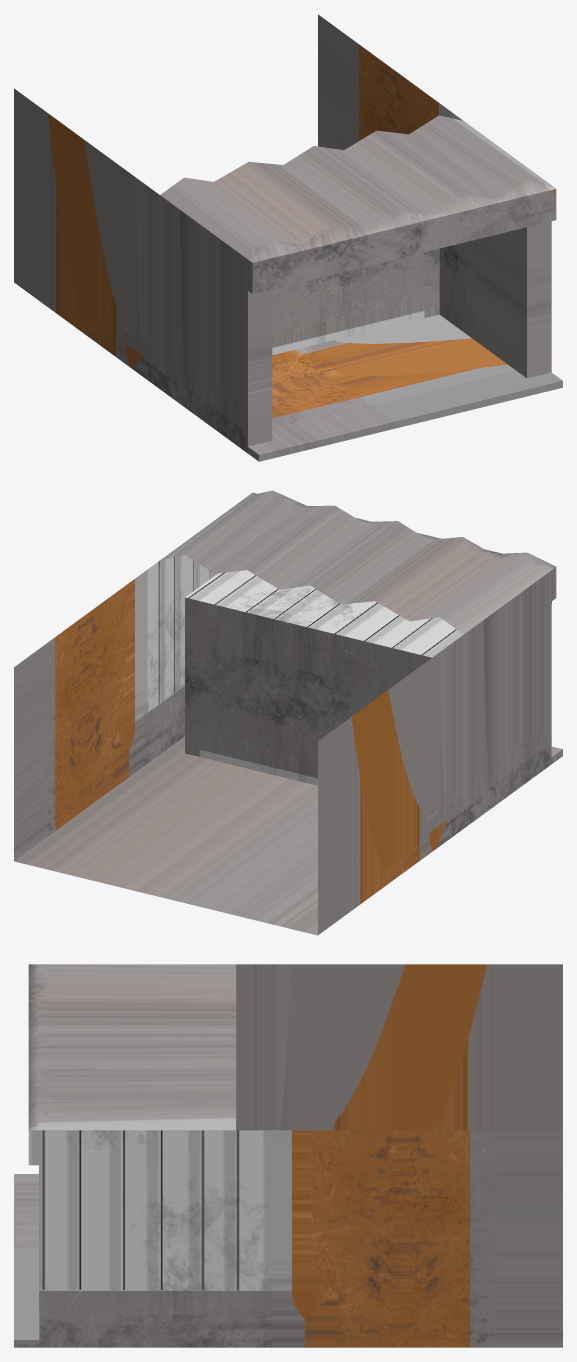
3 views of the same model, one above another, from view 1: azimuth 30°, elevation 25°; view 2: azimuth 150°, elevation 25°; view 3: azimuth 270°, elevation 25° (orthographic). The views are drawn at different scales.
Visible parts, largest first — view 1: Building_1F_A1; view 2: Building_1F_A1; view 3: Building_1F_A1.
Part boxes in pixels (box(x1,y1,x2,y2)): Building_1F_A1: box(14, 14, 562, 461); Building_1F_A1: box(14, 490, 562, 935); Building_1F_A1: box(14, 964, 562, 1347).
Bounding box in the file's own units: 4.31 × 2.79 × 6.02.
